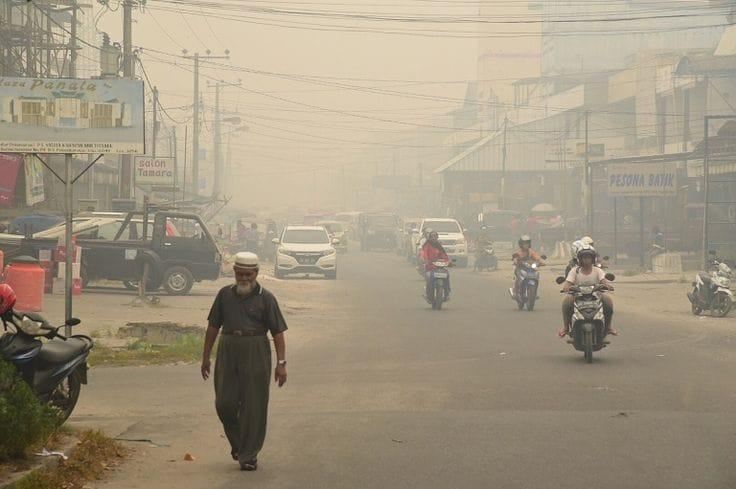Gedung: (538, 64, 736, 255), (436, 75, 613, 250)
Kendaraan: (0, 267, 101, 454), (38, 199, 226, 290), (269, 216, 340, 285), (564, 281, 618, 371), (682, 251, 736, 325), (223, 195, 276, 269), (410, 209, 475, 265), (344, 201, 403, 256), (409, 256, 459, 318), (505, 255, 551, 316)
Manusia: (192, 245, 292, 477), (559, 239, 612, 293), (411, 224, 454, 280), (515, 226, 542, 275)
